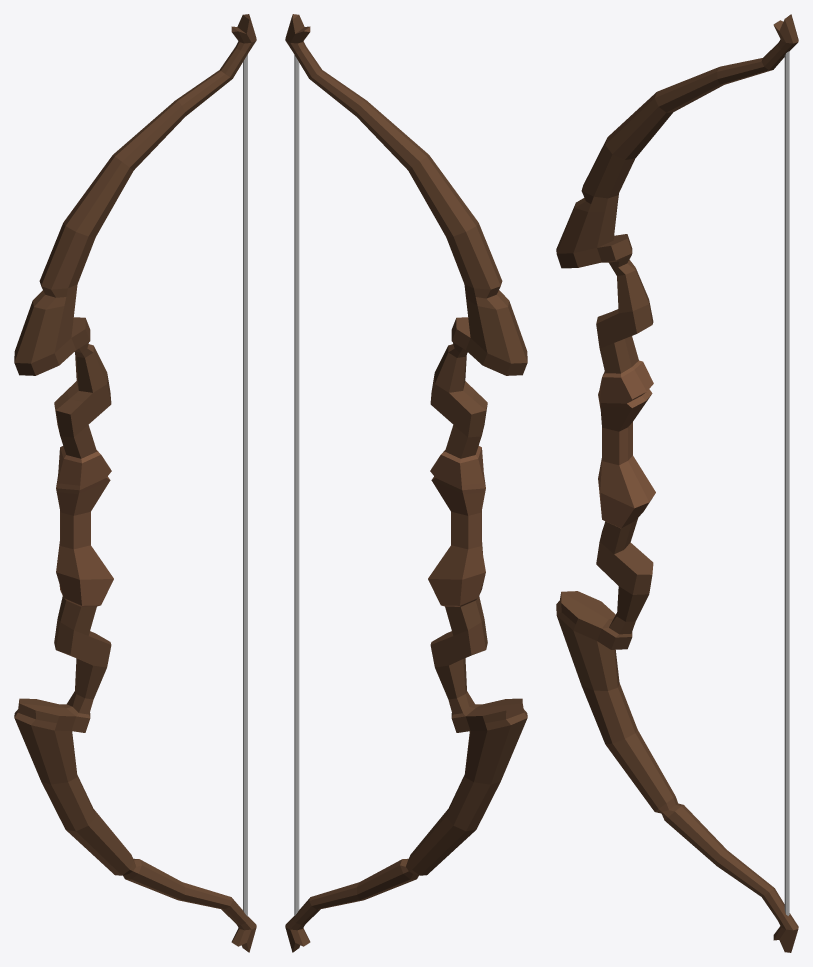
Rendered from Bow_Wooden.glb.
3 views of the same model, side by side, from view 1: azimuth 30°, elevation 25°; view 2: azimuth 150°, elevation 25°; view 3: azimuth 330°, elevation 25° (orthographic).
Parts seen in each view (by area): view 1: DarkWood, LightWood, White; view 2: DarkWood, LightWood, White; view 3: DarkWood, LightWood, White.
Part boxes in pixels (box(x1,y1,x2,y2)): DarkWood: box(14, 14, 256, 952); LightWood: box(56, 446, 113, 606); White: box(243, 54, 247, 916); DarkWood: box(285, 14, 527, 952); LightWood: box(428, 446, 485, 606); White: box(294, 55, 299, 915); DarkWood: box(556, 14, 798, 952); LightWood: box(598, 360, 655, 528); White: box(784, 51, 789, 915).
Bounding box in the file's own units: 1.47 × 5.44 × 0.2434.
